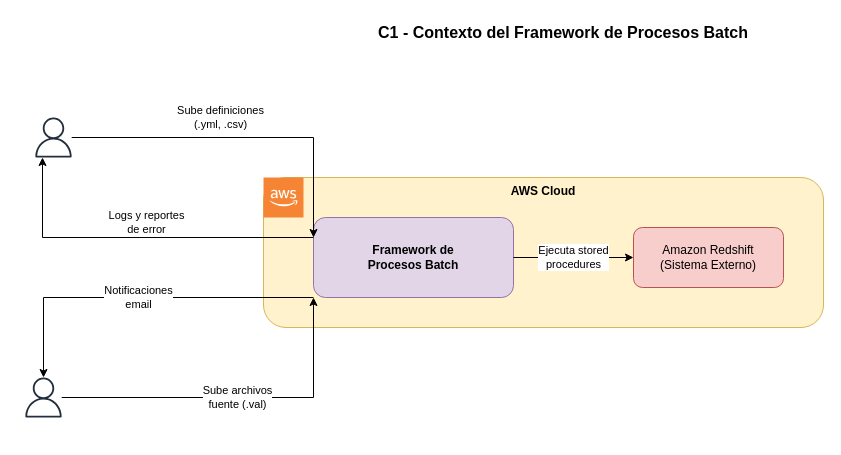
The diagram is 841 pixels wide and 455 high, and some of its shapes have lost their labels. The centre of each missing label's shape, as x and y in pixels:
"Desarrollador" belongs at point 53,137.
"Operador" belongs at point 43,397.
